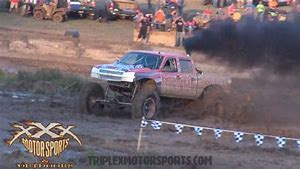smoke: (184, 14, 300, 65)
